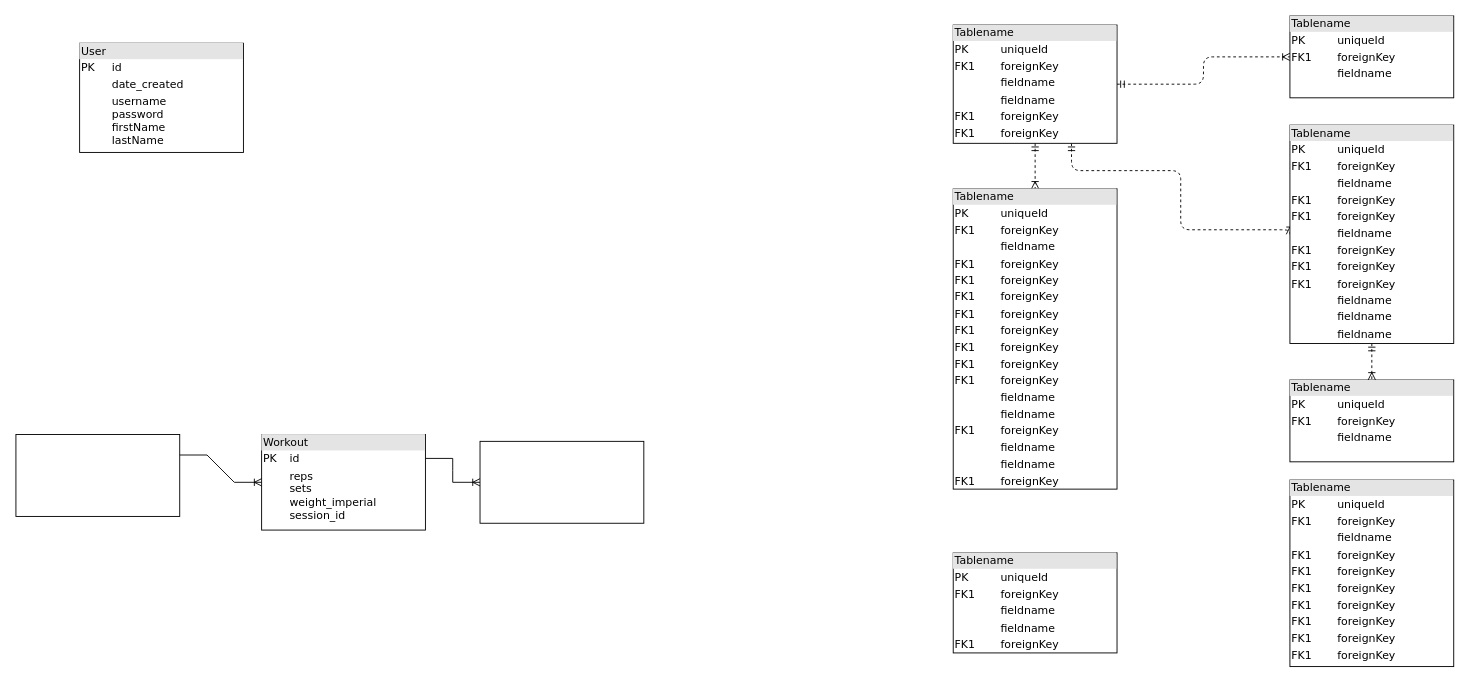
Image size: 1470x683. Some labels were removed from this diagram. The centre of each missing label's shape, as x and y in pixels:
"Exercise PK id FK name description workout_id" goes at pixel 561 481.
"Session PK id created_at day_to_be_completed" goes at pixel 97 475.
